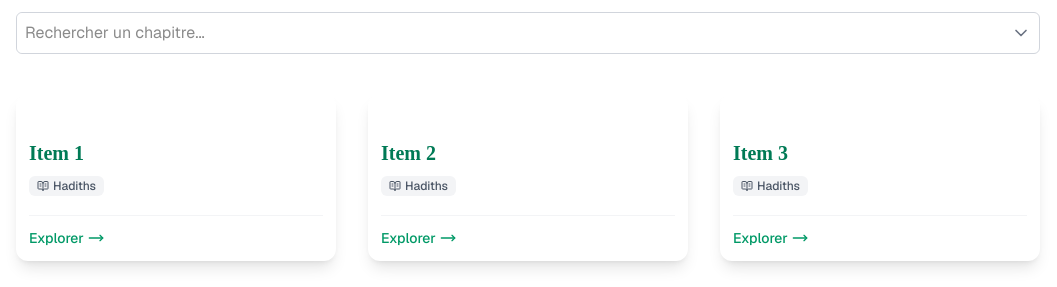
Test: FilteredListCard › filters items when search text is entered
Type "Item 2" into the search input
Type "Item 2" into the dropdown with placeholder "Rechercher un chapitre..." at point(510, 33), box [17, 13, 1003, 53]
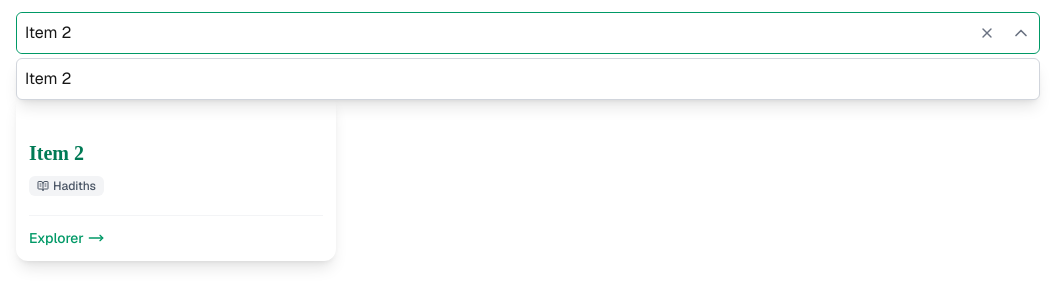
Expected: the heading "Item 2" is shown, [29, 142, 84, 164]
Result: the option "Item 1" is gone
Result: the option "Item 3" is gone
